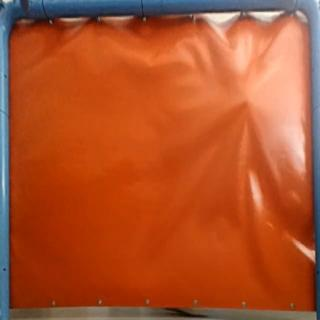Hit-hRxx: (242, 92, 258, 108)
